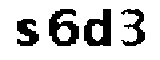3: (119, 7, 147, 50)
6: (46, 5, 81, 50)
d: (85, 8, 114, 48)
s: (12, 18, 39, 48)
